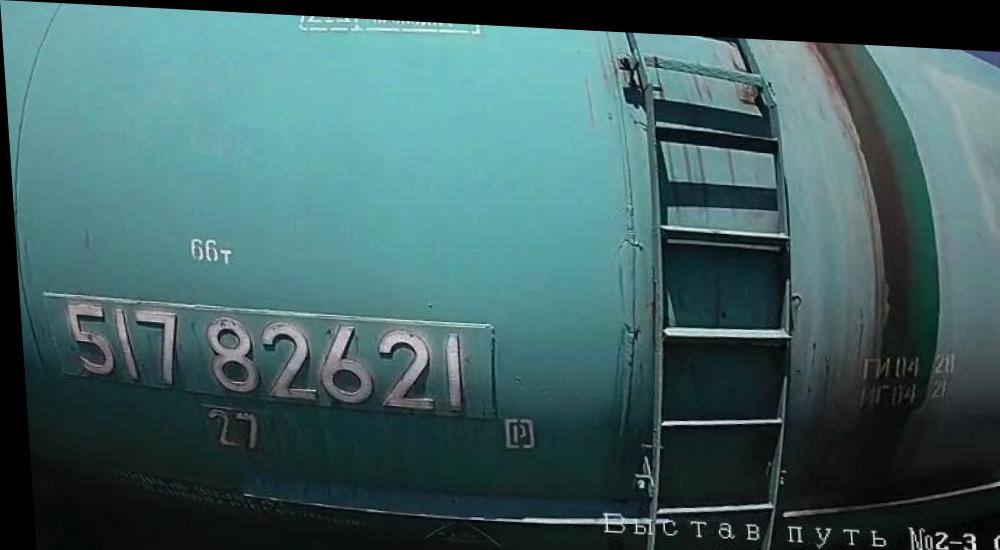Wagon-number: (59, 297, 469, 418)
